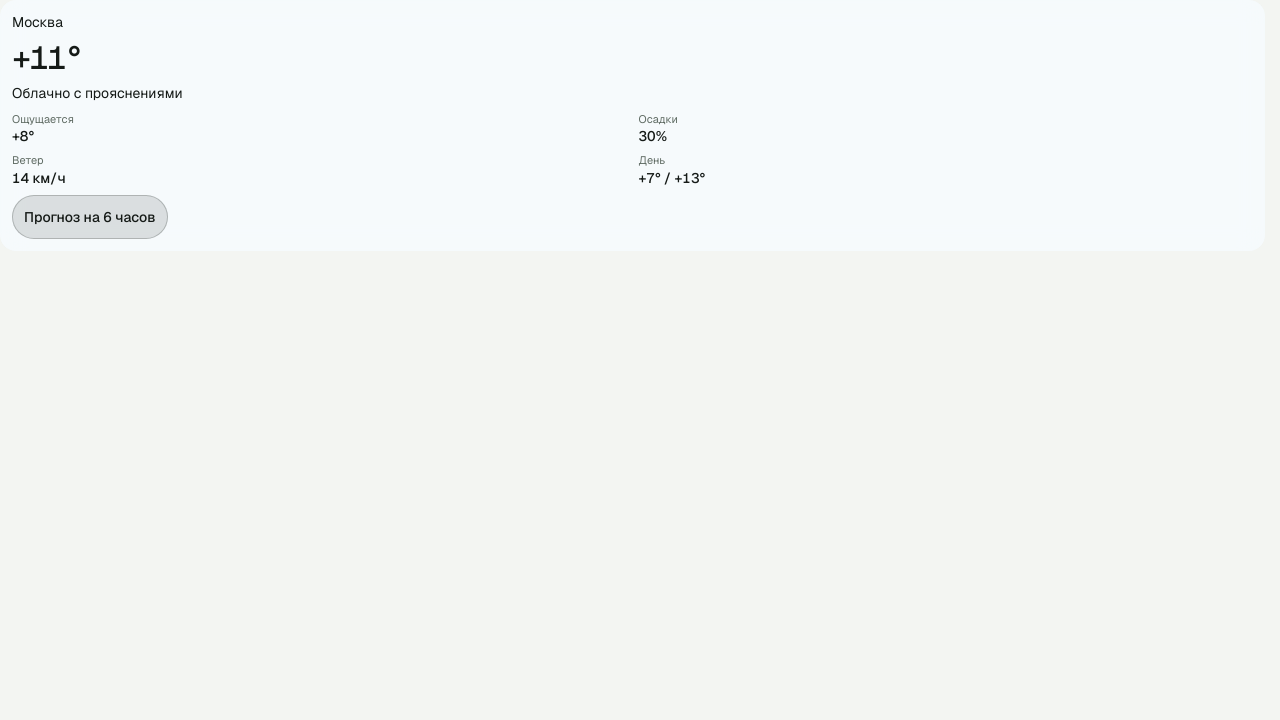
it: WeatherWidget › показывает текущую погоду и раскрывает почасовой прогноз
Expected: the text "Москва" is shown, top-left (12, 13), bottom-right (63, 31)
Expected: the text "+11°" is shown, top-left (12, 37), bottom-right (82, 78)
Click the button "Прогноз на 6 часов": click(90, 217) top-left (12, 195), bottom-right (168, 239)
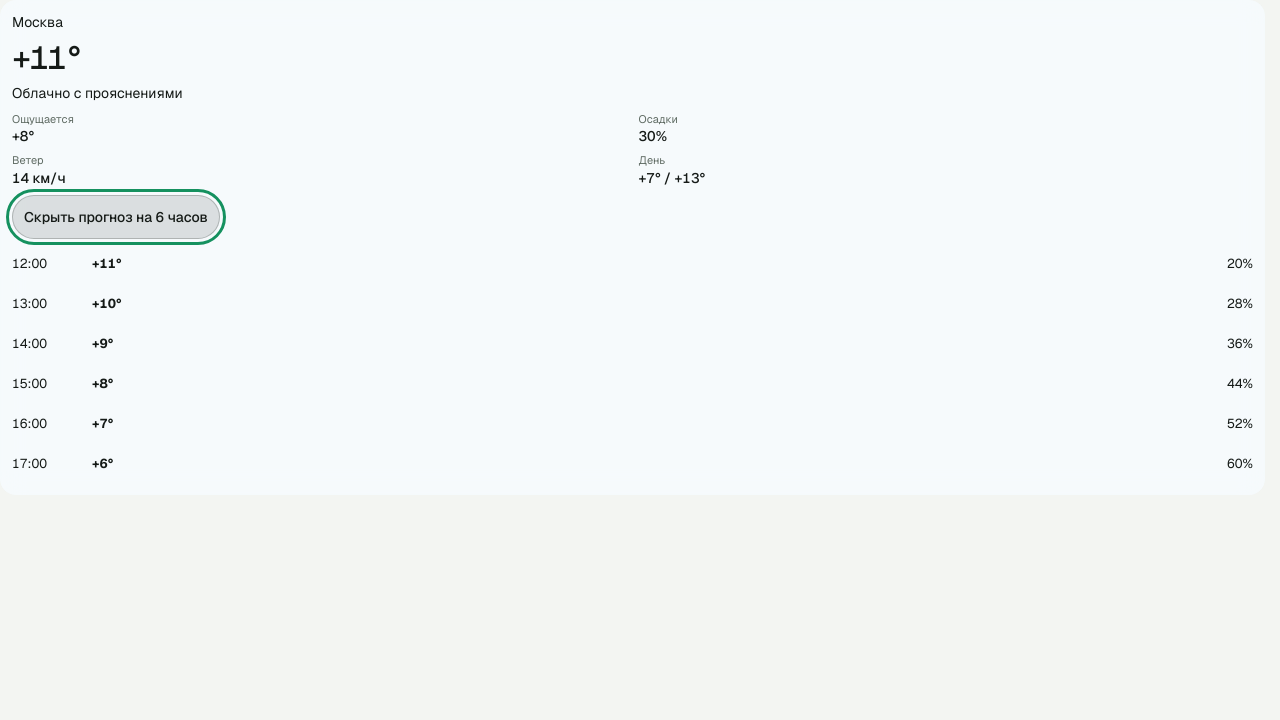
Result: the list is shown at top-left (12, 247), bottom-right (1253, 483)
Result: the text "12:00" is shown at top-left (12, 255), bottom-right (47, 272)
